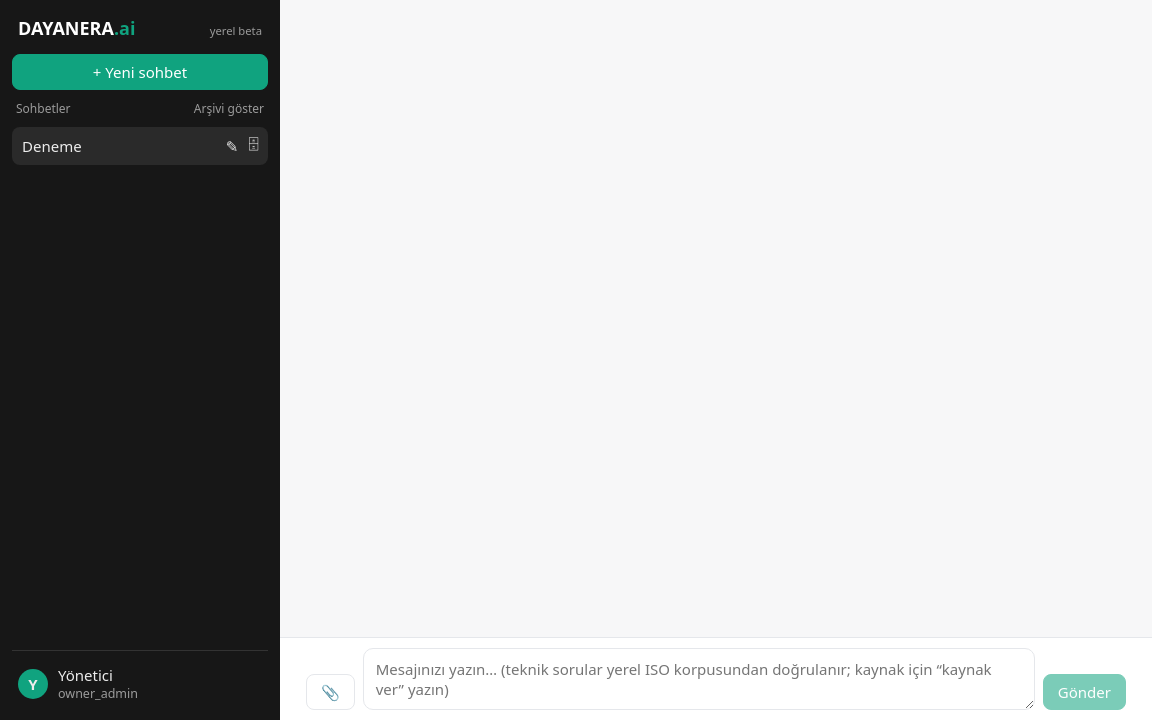
Test: Sohbet › mesaj gönderir, akışı işler, mod rozetini gösterir; kaynaklar yalnızca "kaynak ver" ile görünür
In the text box labelled "Mesaj": (699, 679) [363,648,1035,710], type "ISO 53 temel kremayer basınç açısı nedir?"
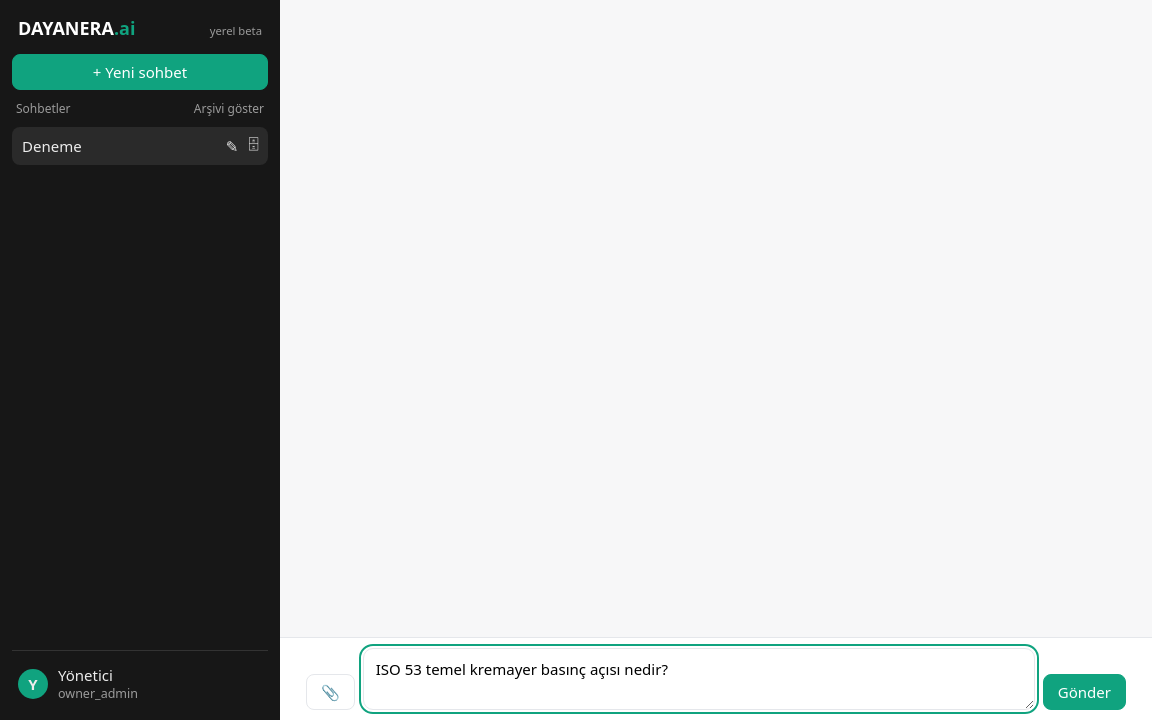
Click the button "Gönder": (1084, 692) [1043,674,1126,710]
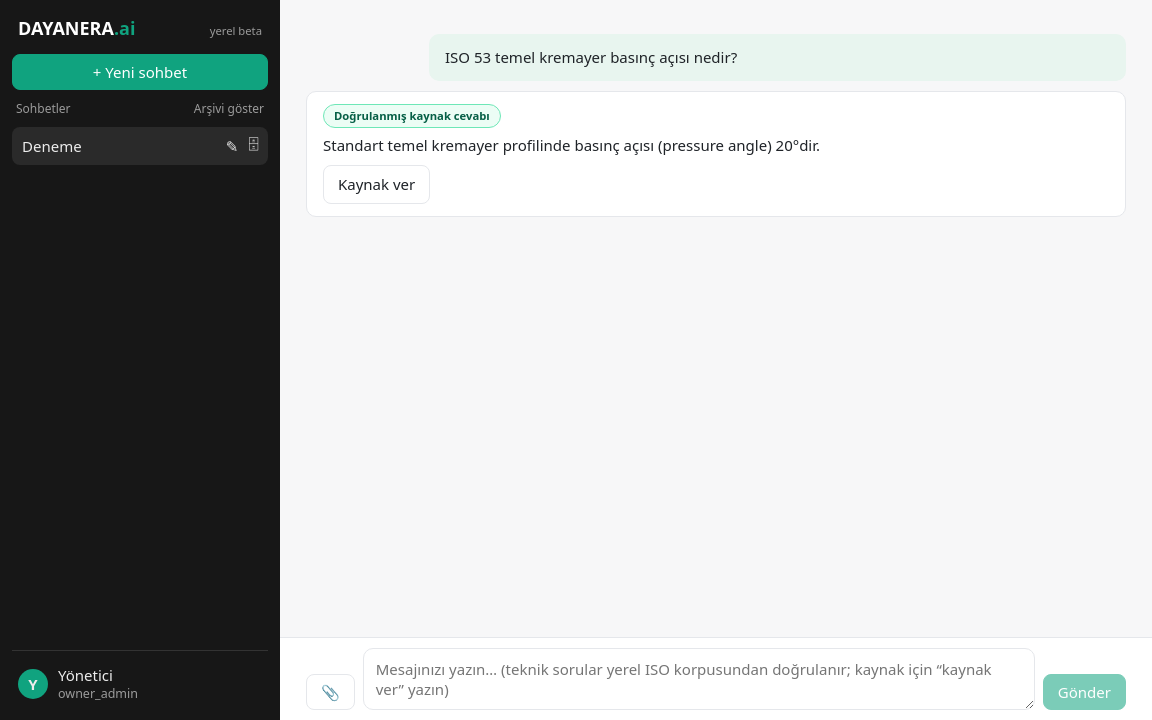
Check: the field labelled "Kaynaklar" is not shown
Check: the text with test id "mode-badge" reads "Doğrulanmış kaynak cevabı", box [334,108,490,123]
Click the button "Kaynak ver": (377, 185) [323,165,430,204]
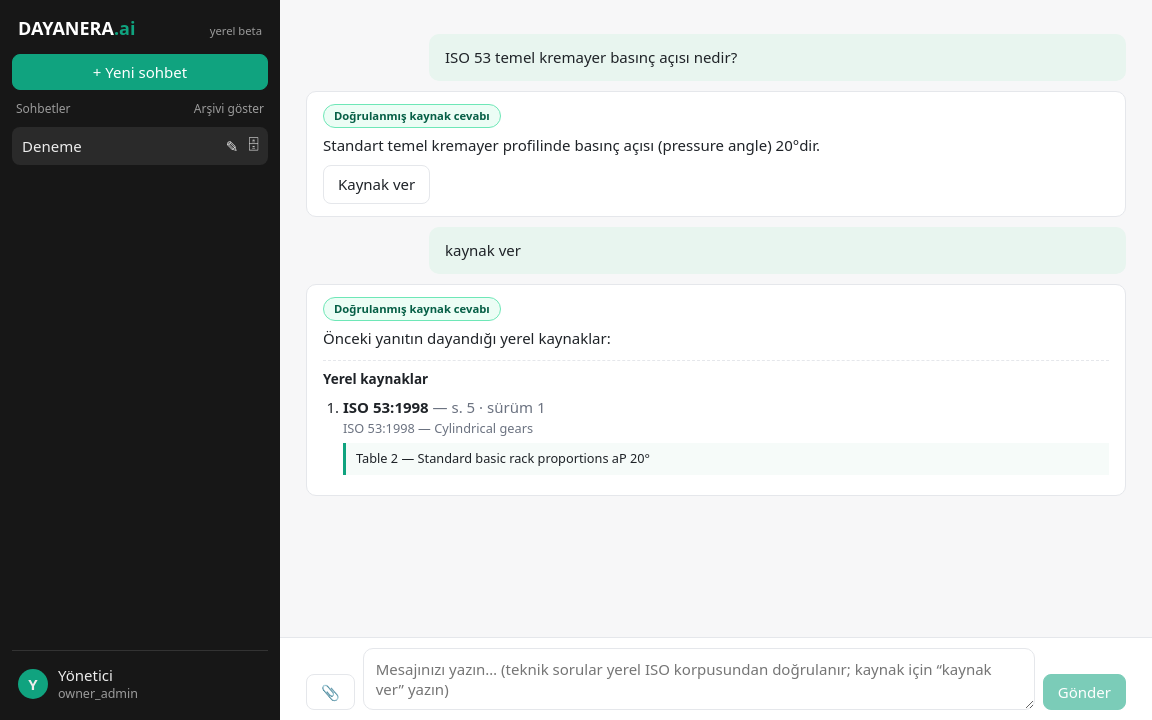
Check: the element labelled "kaynaklar" shows "ISO 53:1998", box [343,397,429,417]
Check: the element labelled "kaynaklar" shows "s. 5", box [452,397,475,417]
